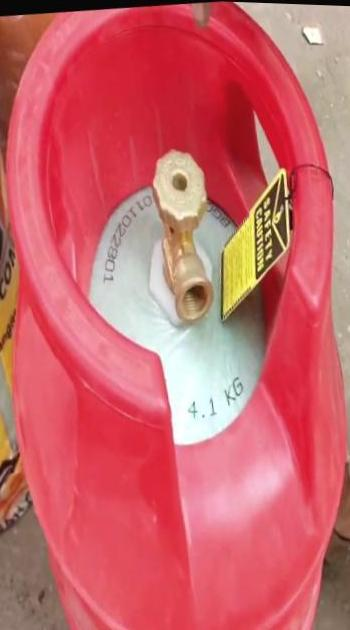cylinder: (1, 1, 350, 630)
